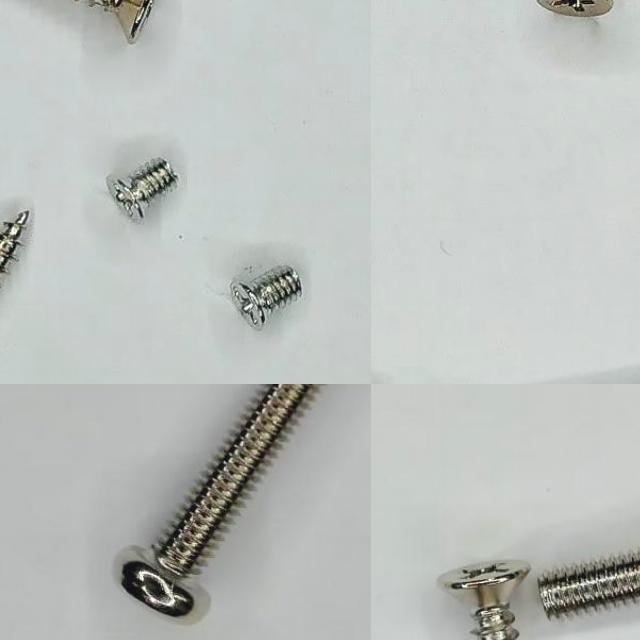Screw: (121, 384, 314, 618), (439, 560, 531, 640), (538, 552, 640, 617), (232, 268, 303, 330), (108, 158, 179, 219), (537, 0, 613, 15)
